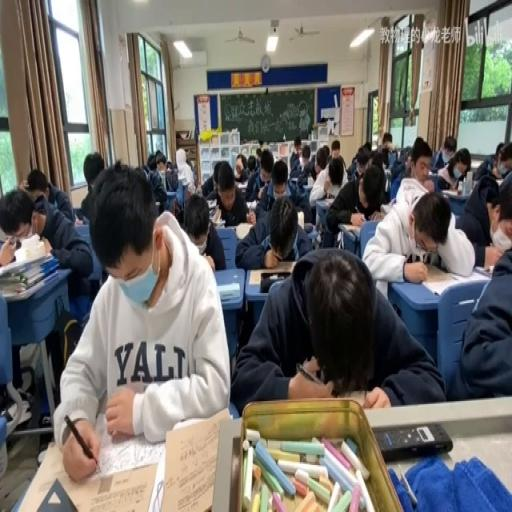calculator: (154, 407, 230, 512), (92, 411, 165, 478), (418, 260, 472, 296), (0, 243, 48, 279), (28, 478, 78, 510), (246, 267, 294, 286), (215, 280, 240, 300), (234, 222, 252, 240), (473, 264, 494, 278), (338, 222, 360, 233), (210, 205, 223, 223), (440, 189, 462, 198), (495, 175, 508, 188), (318, 196, 334, 206), (302, 220, 314, 232), (246, 199, 257, 212), (236, 181, 248, 192), (306, 175, 314, 188), (206, 196, 216, 206), (74, 214, 84, 224), (427, 168, 437, 176), (290, 174, 299, 180)
paper: (229, 244, 435, 412), (0, 178, 94, 414), (235, 185, 314, 269), (458, 168, 512, 266), (325, 159, 386, 242), (204, 160, 249, 230), (76, 154, 110, 220), (402, 135, 436, 192), (142, 149, 170, 209), (473, 141, 512, 182), (243, 148, 269, 202), (384, 144, 408, 199), (430, 135, 458, 174), (175, 148, 195, 199), (296, 142, 318, 184), (327, 139, 346, 172), (452, 150, 470, 180), (270, 159, 286, 191), (165, 159, 178, 191), (315, 145, 329, 174), (370, 150, 386, 174), (380, 132, 394, 155), (355, 154, 370, 175), (210, 161, 220, 189), (237, 155, 246, 174), (496, 142, 506, 158), (362, 140, 372, 154), (147, 155, 157, 169), (255, 145, 262, 162), (173, 198, 179, 216), (247, 160, 256, 170), (294, 136, 300, 150)
person: (373, 422, 451, 461)
